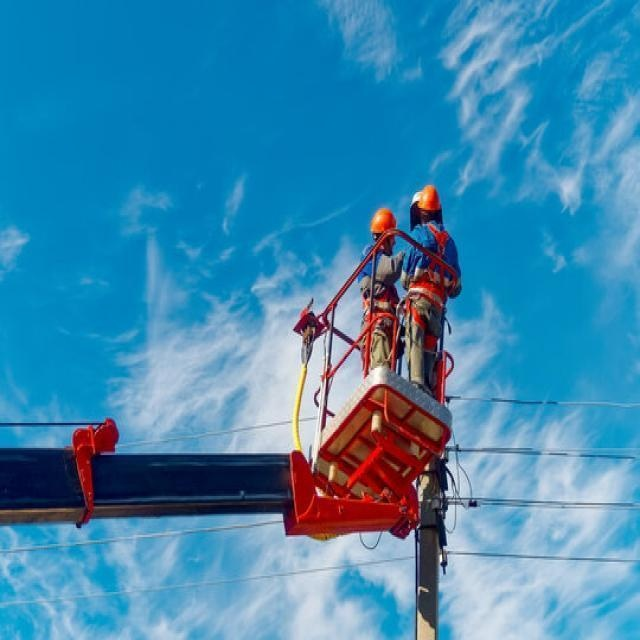Arnes_seguridad: (405, 223, 448, 351), (359, 244, 390, 331)
